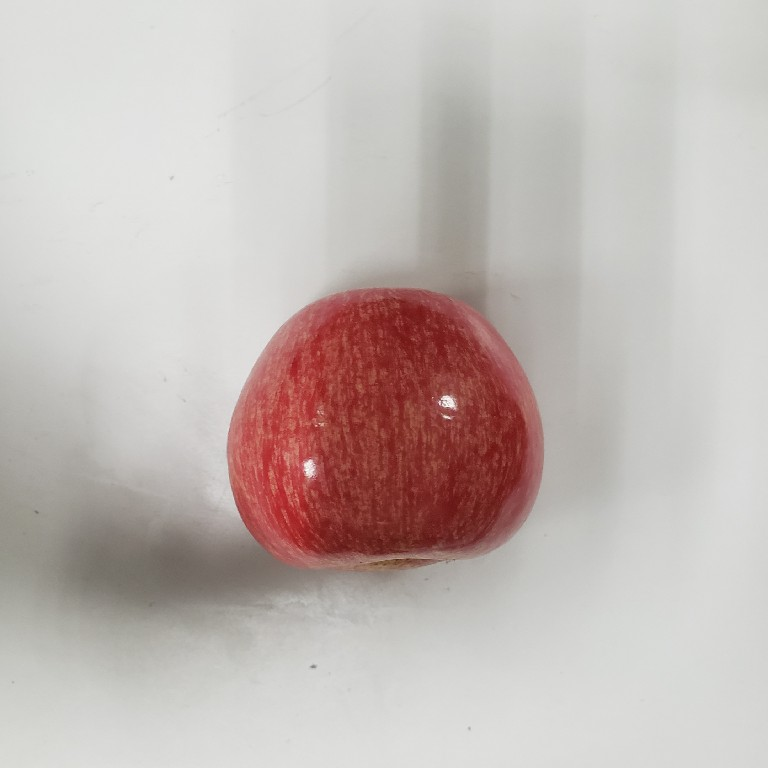fruit_apple: (220, 282, 551, 579)
